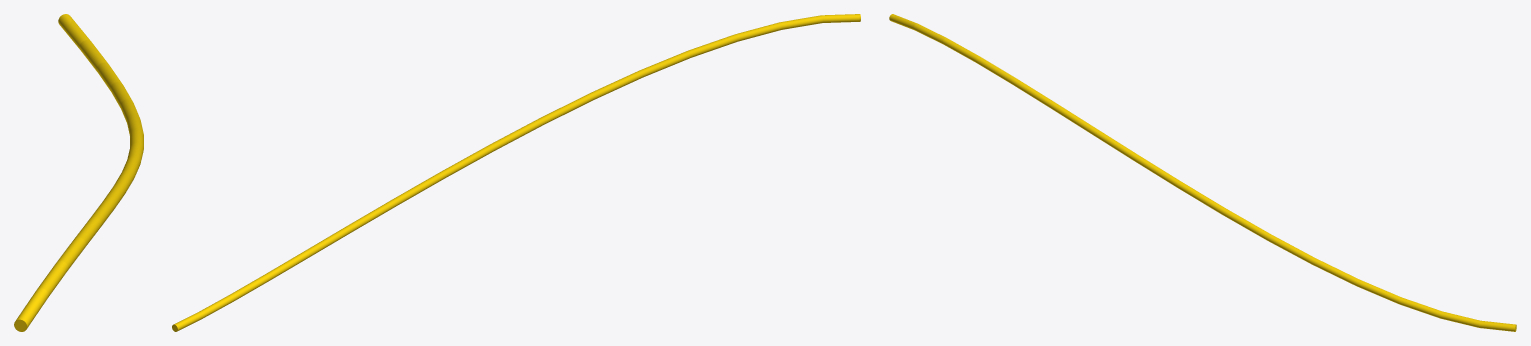
Rendered from Event_421364160_track_52.fbx.
3 renders of one model, left to right at view 1: azimuth 90°, elevation 25°; view 2: azimuth 210°, elevation 25°; view 3: azimuth 330°, elevation 25°, orthographic. The views are drawn at different scales.
Parts seen in each view (by area): view 1: Model; view 2: Model; view 3: Model.
Boxes of the visible parts, box(x1,y1,x2,y2) form: Model: box(14, 14, 143, 331); Model: box(172, 14, 860, 331); Model: box(889, 14, 1516, 331).
Bounding box in the file's own units: 3.94 × 0.9197 × 0.3721.
